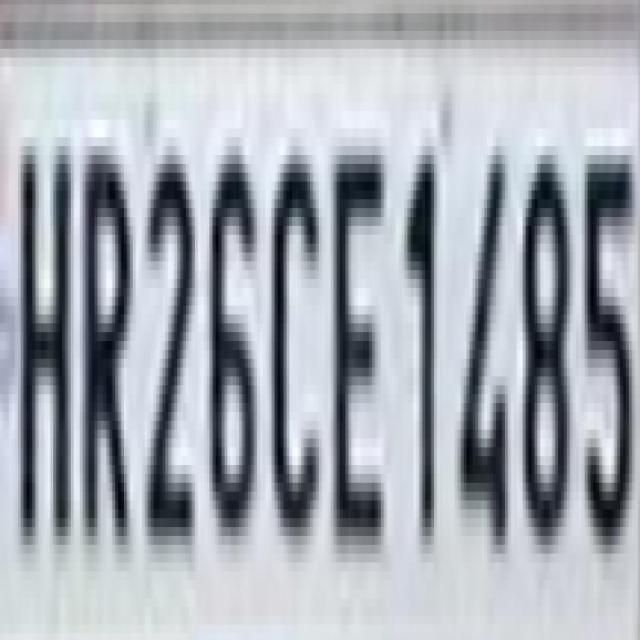license-plate: (2, 3, 640, 606)
